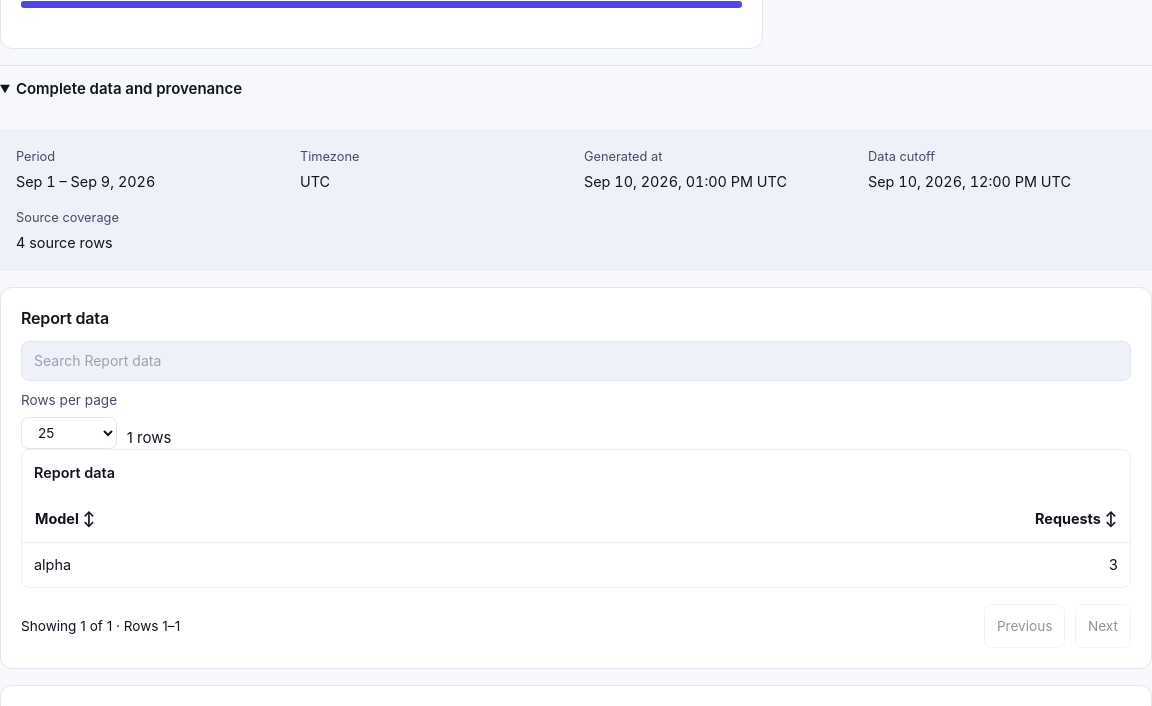
distinguishes no matches from empty snapshots and clears search and sort without submitting
(page scrolled)
Type "absent" into the search field labelled "Search Report data" at {"x": 576, "y": 361}, box [21, 341, 1131, 381]
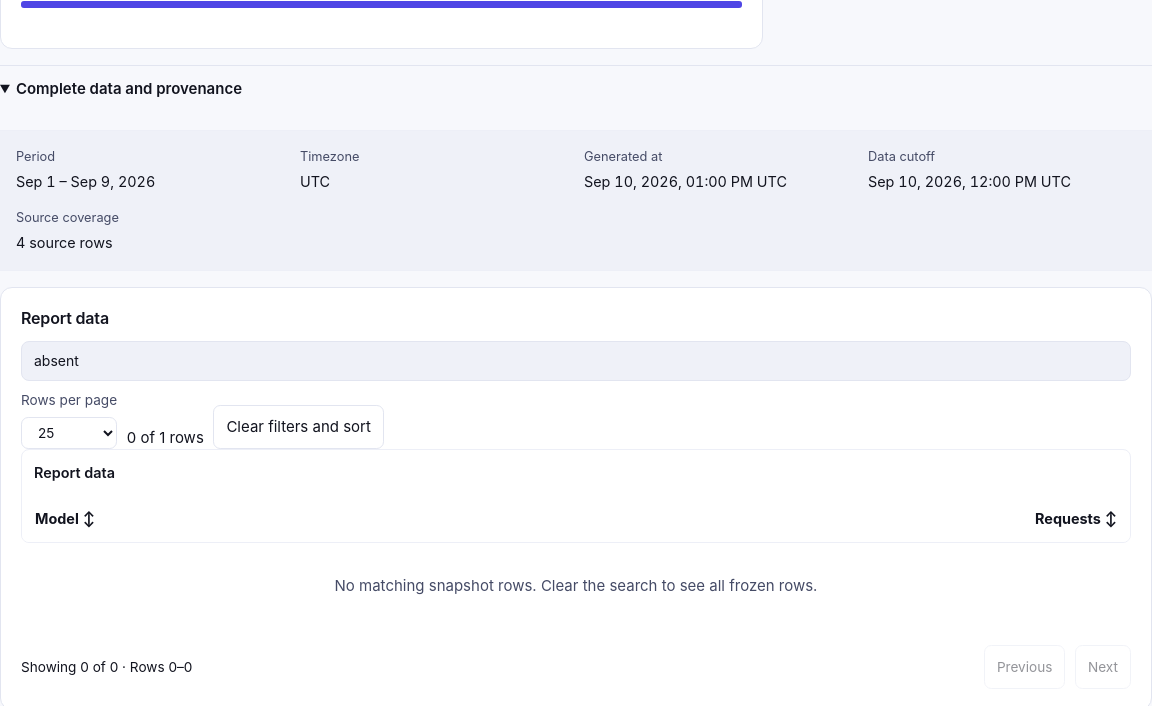
Expected: the text "No matching snapshot rows. Clear the search to see all frozen rows." is shown, [334, 576, 817, 595]
Click the button with aria-label "Clear Report data filters and sort" at {"x": 299, "y": 427}, box [213, 405, 384, 449]
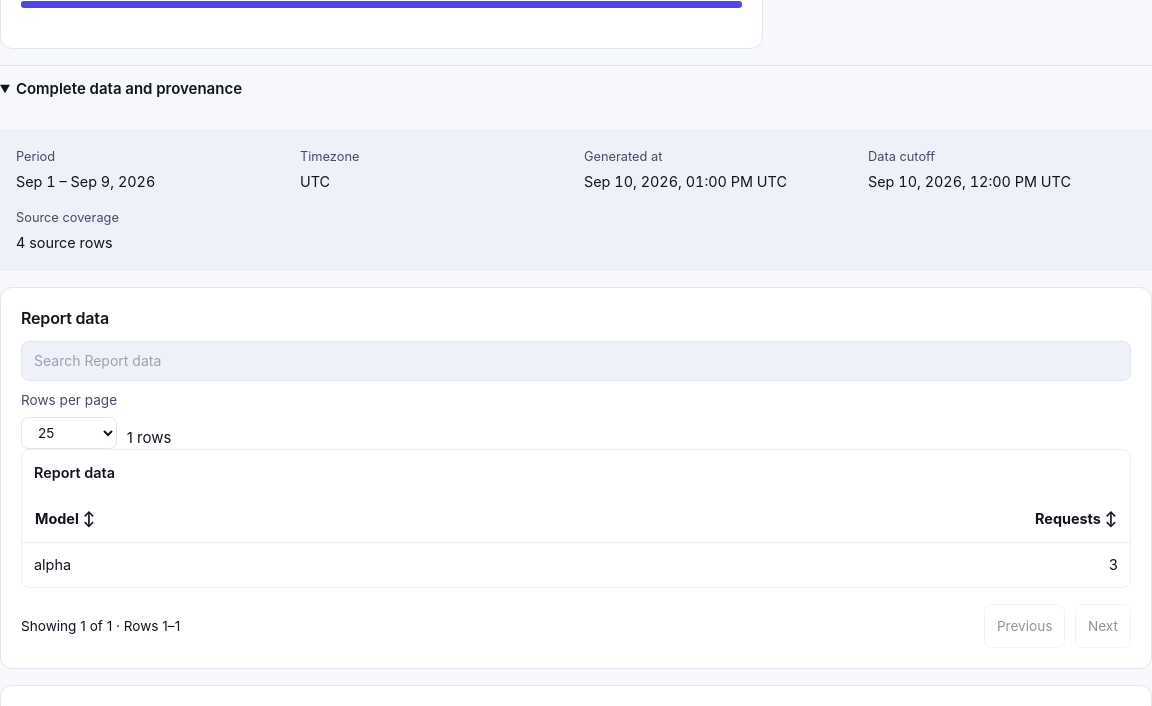
Expected: the text "alpha" is shown, [22, 542, 513, 587]
